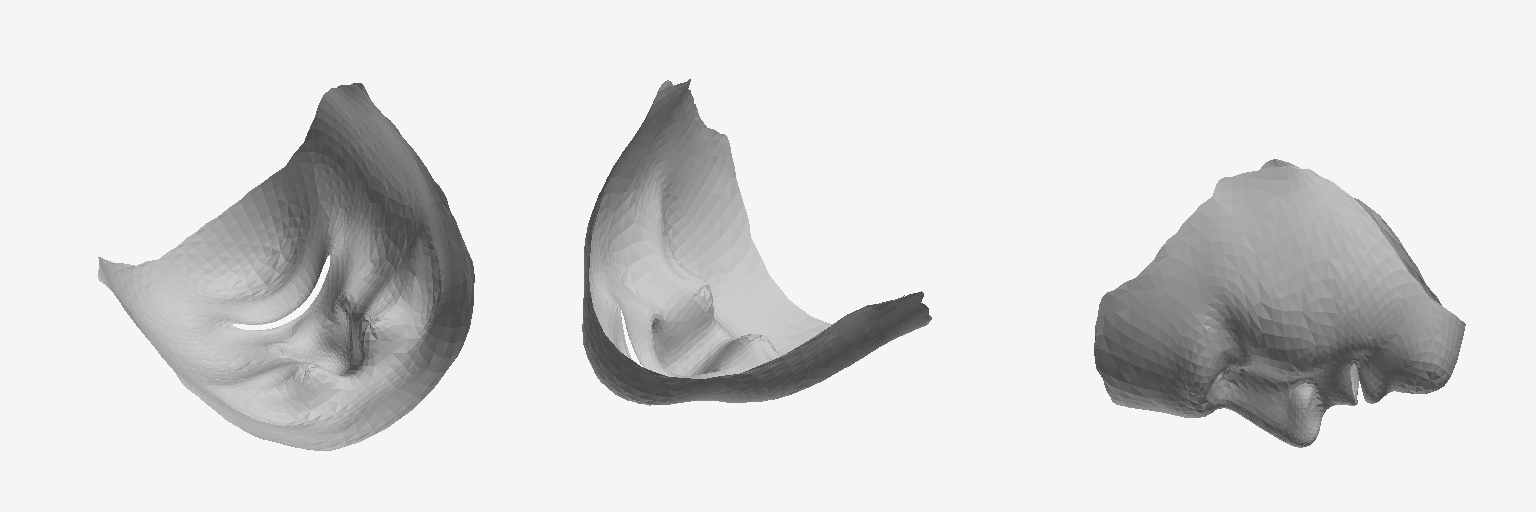
The model's file is face_gab_sfm115.obj.
The picture shows the model from 3 angles: view 1: azimuth 30°, elevation 25°; view 2: azimuth 150°, elevation 25°; view 3: azimuth 270°, elevation 25°; orthographic projection.
Bounding box in the file's own units: 165 × 160 × 183.